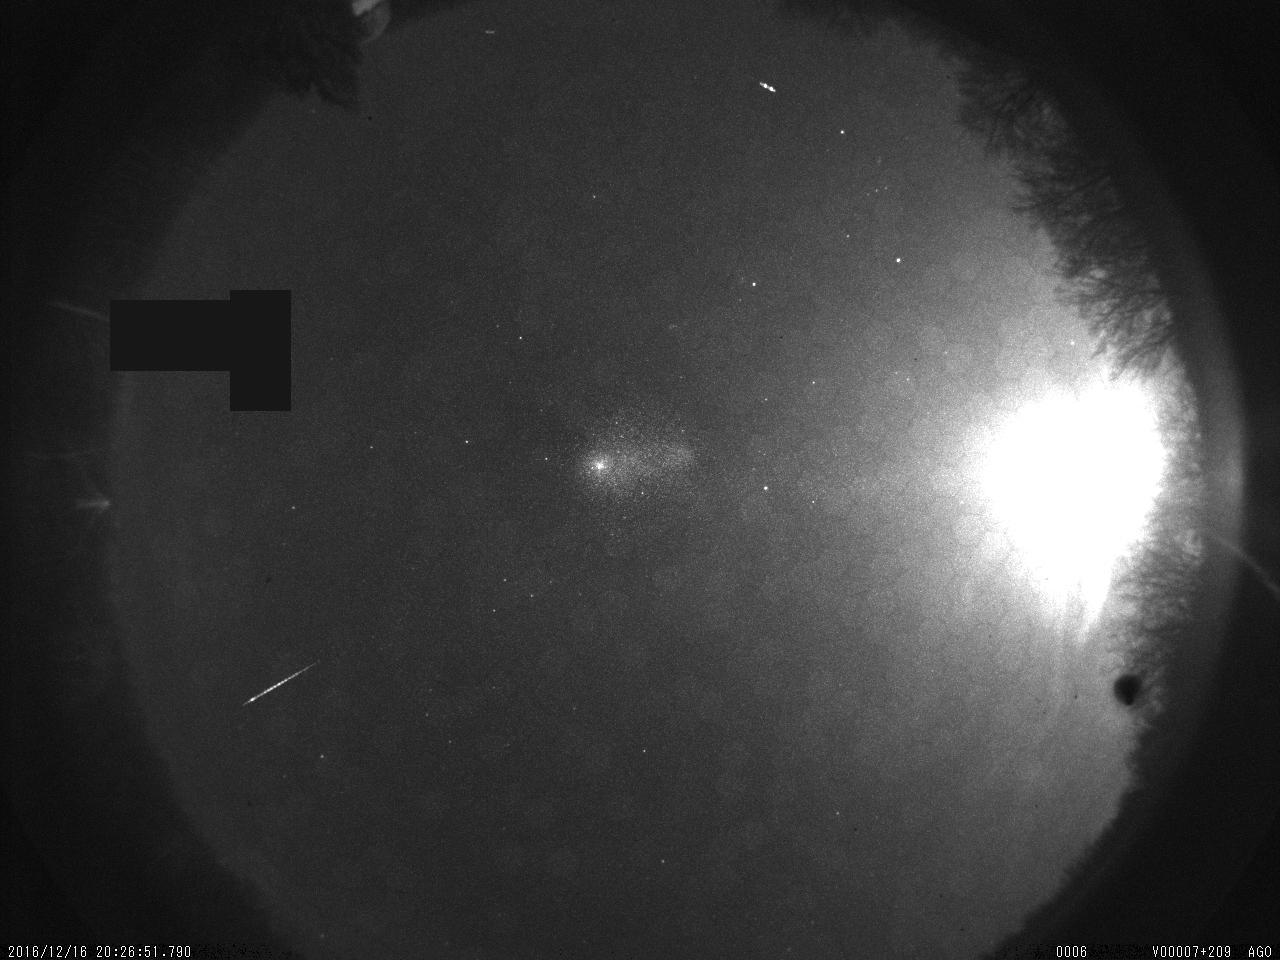meteor: (234, 654, 331, 713)
